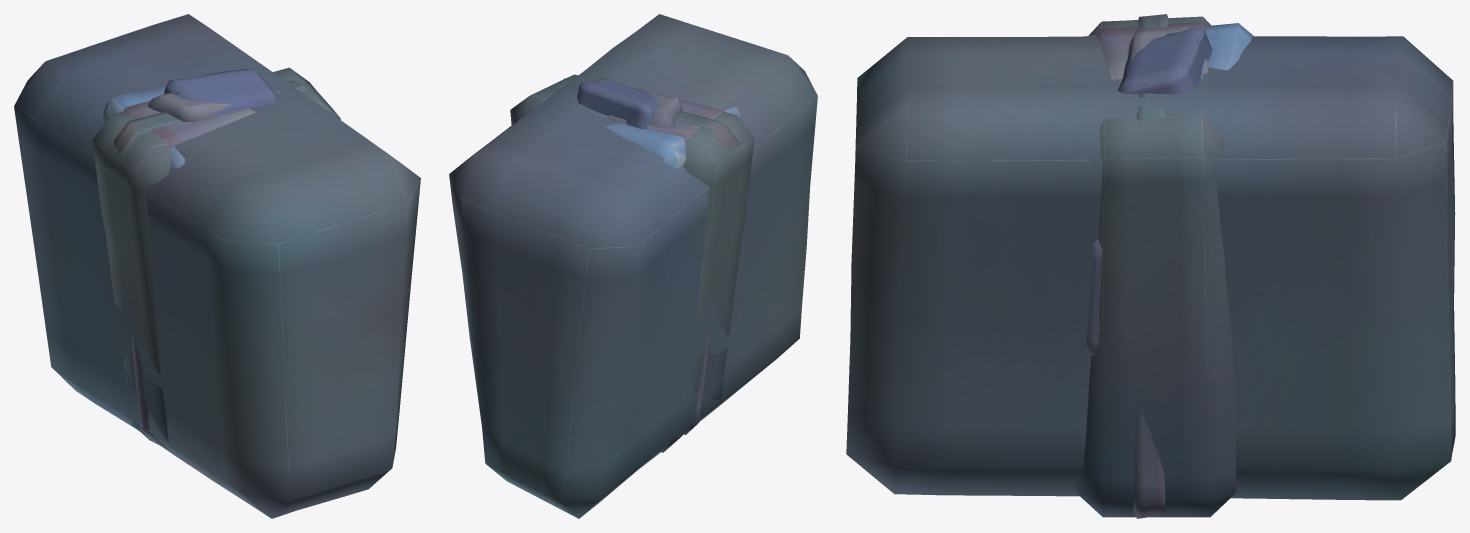
The model's file is Rocks.fbx.
The picture shows the model from 3 angles, left to right: view 1: azimuth 30°, elevation 25°; view 2: azimuth 150°, elevation 25°; view 3: azimuth 270°, elevation 25°; orthographic projection. The views are drawn at different scales.
Parts seen in each view (by area): view 1: Rock_Road, Rock_Road2, Rock_Thin_2, Rock_Road3, Rock_Broken, Rock_Thin_4, Rock_Broken 2; view 2: Rock_Road, Rock_Road2, Rock_Thin_2, Rock_Broken 2, Rock_Road3, Rock_Broken, Rock_Thin_4; view 3: Rock_Road, Rock_Road2, Rock_Thin_2, Rock_Road3, Rock_Broken, Rock_Broken 2, Rock_Thin_4.
Part boxes in pixels (x1,y1,x2,y2): Rock_Road: (14,14,420,518); Rock_Road2: (92,67,340,449); Rock_Thin_2: (164,68,278,116); Rock_Road3: (113,80,308,442); Rock_Broken: (123,100,255,148); Rock_Thin_4: (148,93,231,122); Rock_Broken 2: (103,87,184,168); Rock_Road: (449,14,817,518); Rock_Road2: (510,74,754,452); Rock_Thin_2: (577,78,658,129); Rock_Broken 2: (605,107,740,168); Rock_Road3: (553,78,739,434); Rock_Broken: (607,87,724,143); Rock_Thin_4: (643,91,682,128); Rock_Road: (846,36,1455,500); Rock_Road2: (1076,16,1236,517); Rock_Thin_2: (1118,27,1212,94); Rock_Road3: (1133,14,1168,518); Rock_Broken: (1085,21,1208,355); Rock_Broken 2: (1083,23,1253,70); Rock_Thin_4: (1127,25,1192,60).
Bounding box in the file's own units: 1191 × 1928 × 2316.
